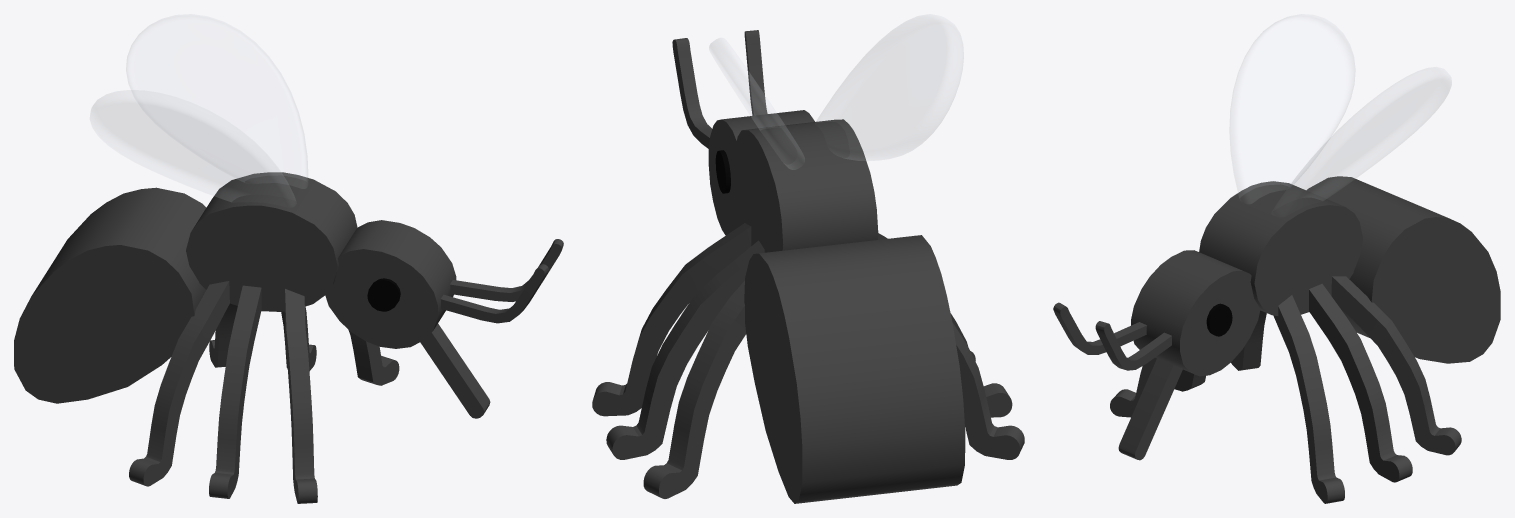
Rendered from mosquito.gltf.
The picture shows the model from 3 angles, left to right: view 1: azimuth 30°, elevation 25°; view 2: azimuth 150°, elevation 25°; view 3: azimuth 270°, elevation 25°; orthographic projection. The views are drawn at different scales.
Visible parts, largest first — view 1: Cube.159, Circle.2008, Cube.162, Cube.160, Cube.161, Circle.184, Cube.163, Circle.2007; view 2: Cube.159, Cube.162, Cube.160, Circle.184, Cube.161, Cube.163, Circle.2008, Circle.2007; view 3: Cube.159, Cube.162, Circle.184, Cube.160, Cube.161, Circle.2008, Cube.163, Circle.2007.
Boxes of the visible parts, <box> form: Cube.159: <box>14,187,206,403</box>; Circle.2008: <box>126,14,307,182</box>; Cube.162: <box>129,281,399,503</box>; Cube.160: <box>186,172,357,311</box>; Cube.161: <box>325,220,490,418</box>; Circle.184: <box>90,90,295,201</box>; Cube.163: <box>440,239,563,323</box>; Circle.2007: <box>367,278,400,311</box>; Cube.159: <box>744,235,965,503</box>; Cube.162: <box>592,223,1024,498</box>; Cube.160: <box>734,119,878,252</box>; Circle.184: <box>816,14,963,160</box>; Cube.161: <box>708,110,814,235</box>; Cube.163: <box>672,30,767,148</box>; Circle.2008: <box>709,38,804,169</box>; Circle.2007: <box>715,150,730,193</box>; Cube.159: <box>1306,176,1500,363</box>; Cube.162: <box>1110,276,1461,503</box>; Circle.184: <box>1230,14,1354,197</box>; Cube.160: <box>1199,181,1362,315</box>; Cube.161: <box>1118,250,1260,460</box>; Circle.2008: <box>1273,67,1451,210</box>; Cube.163: <box>1053,302,1171,370</box>; Circle.2007: <box>1206,303,1232,336</box>.
Bounding box in the file's own units: 1.92 × 1.7 × 1.92.
2 materials, 1 textured.
